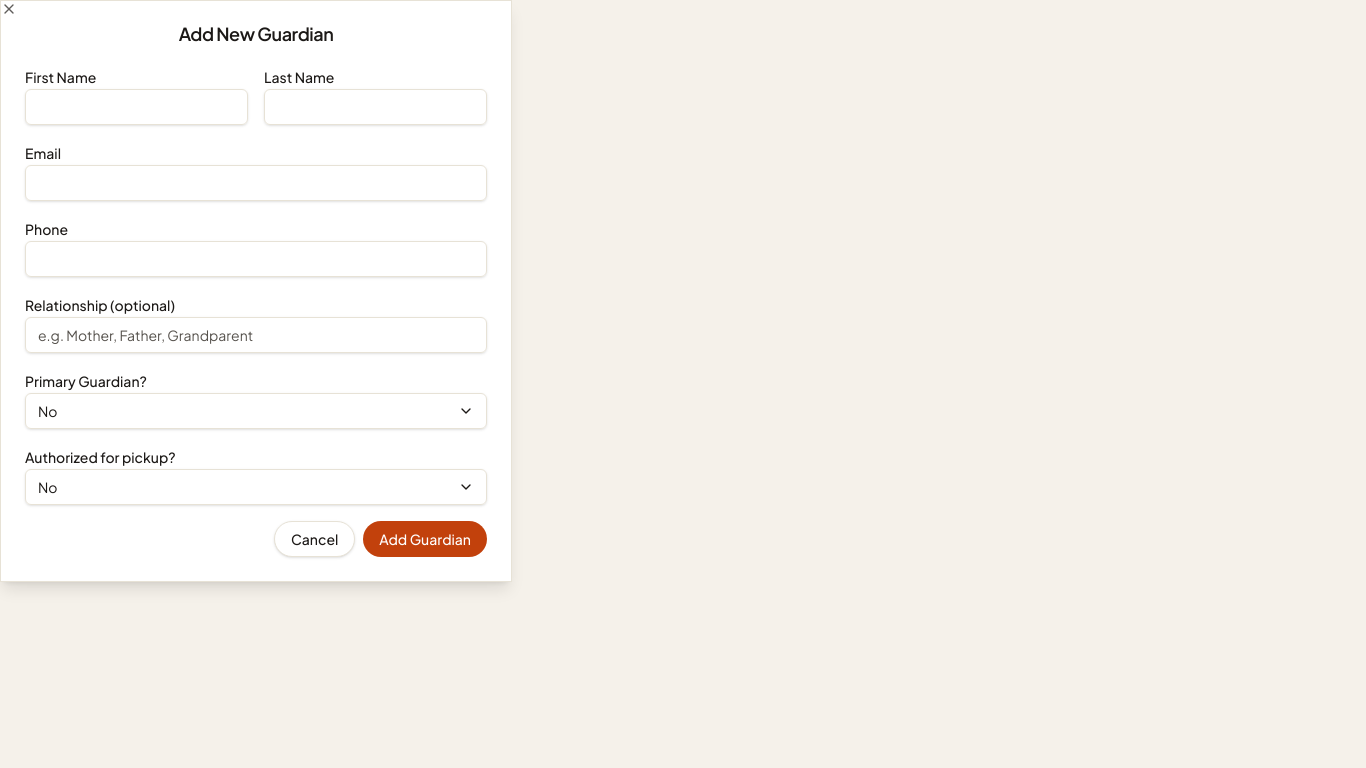
Test case: ChildProfilePage › rolls back the created guardian when the link step fails to prevent orphan rows
Type "Jordan" into the field labelled "First Name".
click(136, 107); type("Jordan")  # box top-left (25, 89), bottom-right (248, 125)
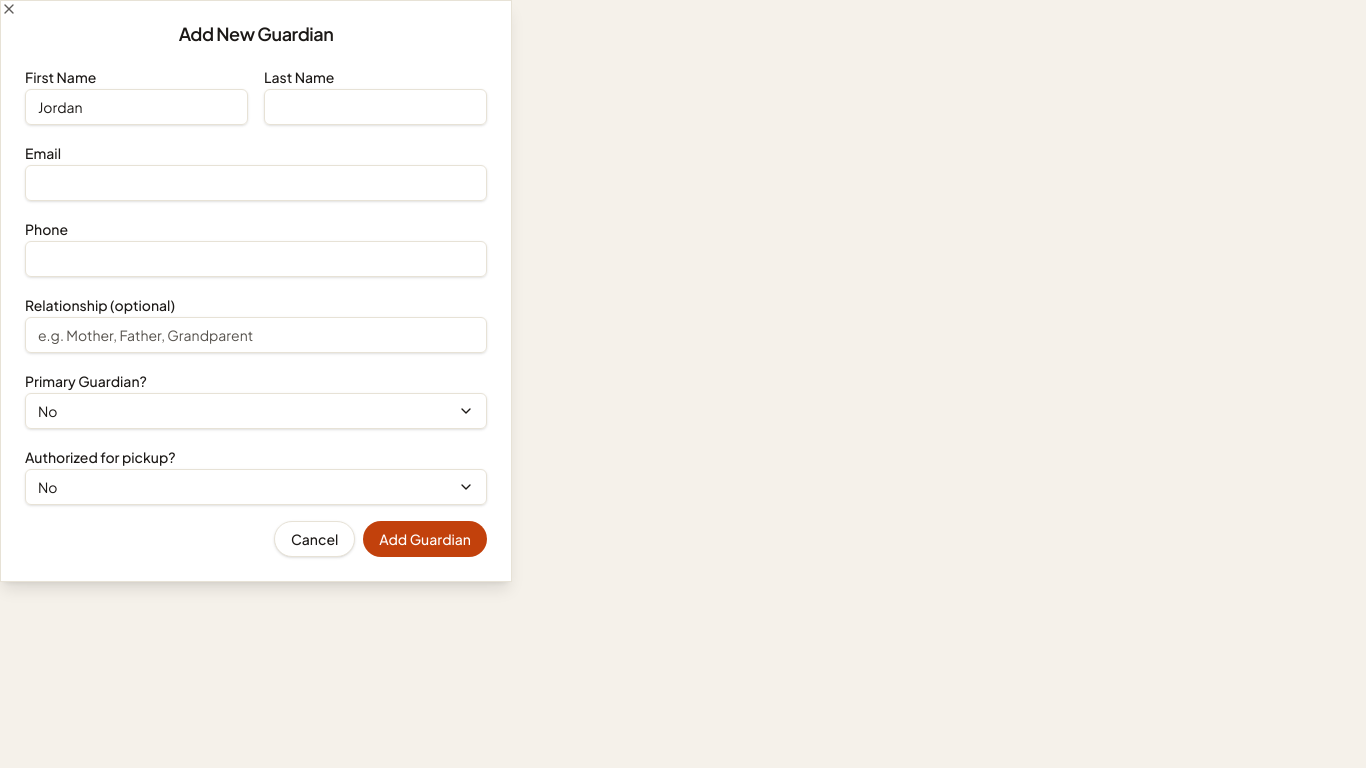
Type "Lee" into the field labelled "Last Name".
click(376, 107); type("Lee")  # box top-left (264, 89), bottom-right (487, 125)
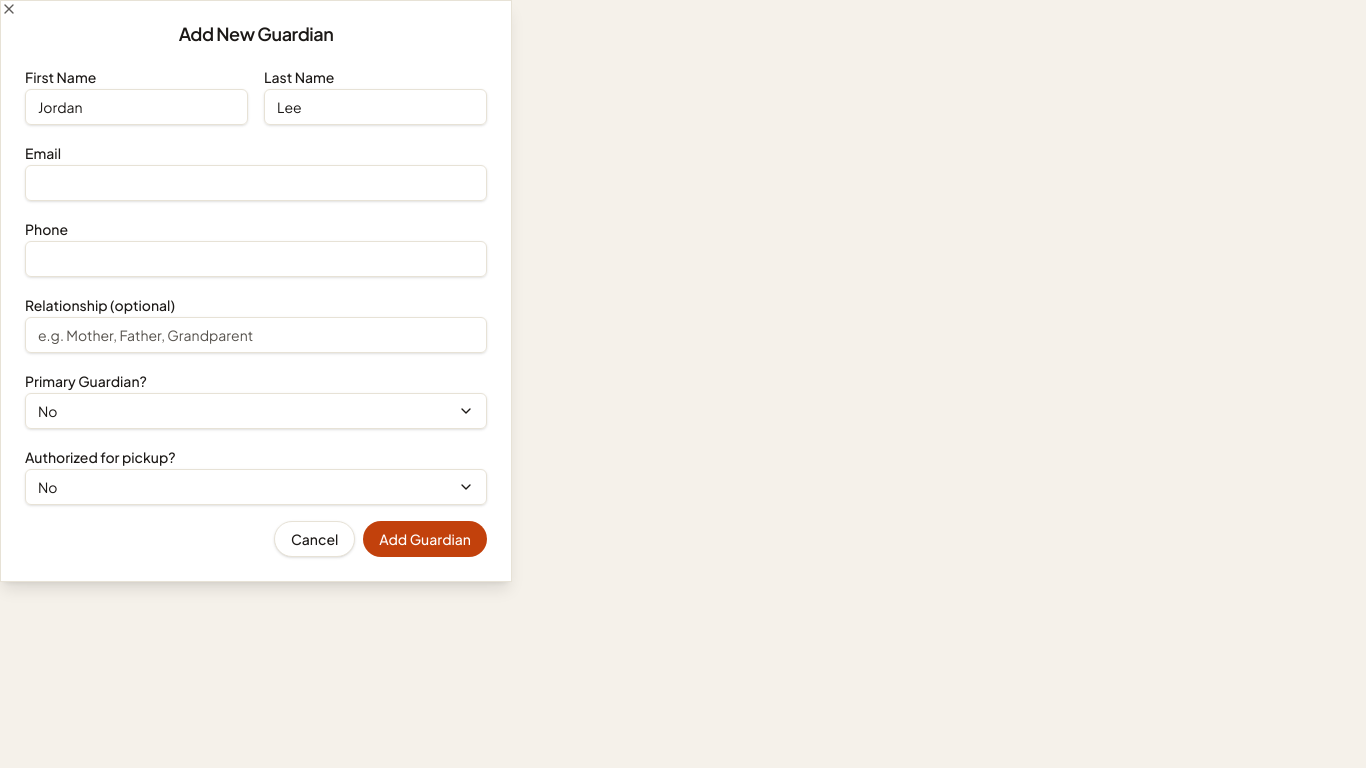
Click the button "Add Guardian".
click(425, 539)  # box top-left (363, 521), bottom-right (487, 557)
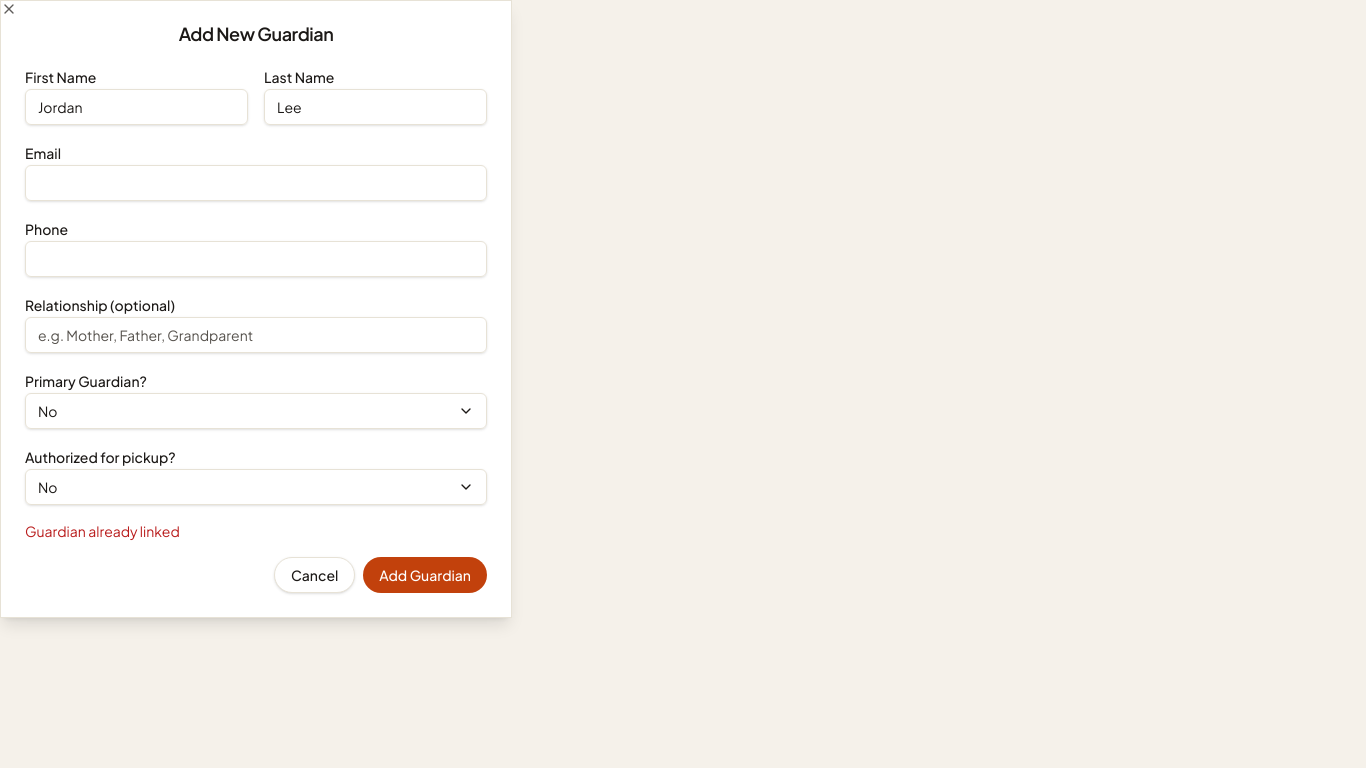
Expected: the heading "Add New Guardian" is shown, top-left (179, 22), bottom-right (333, 45)
Expected: the message reads "Guardian already linked", top-left (25, 522), bottom-right (180, 540)
